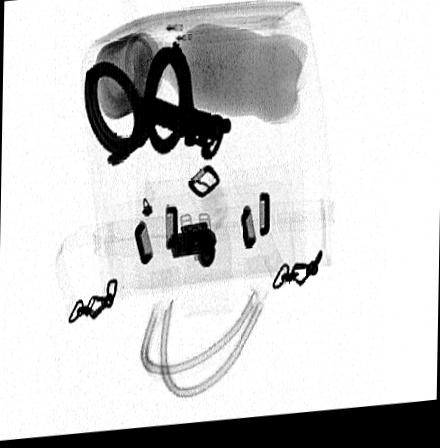HandCuffs: (81, 40, 234, 171)
